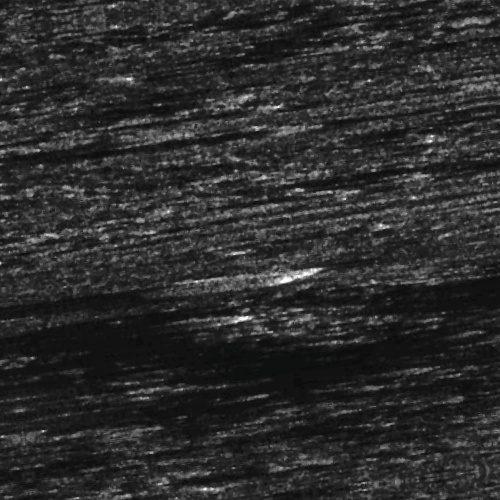object: (196, 268, 383, 285), (22, 493, 189, 500), (118, 119, 233, 128), (188, 91, 261, 100), (454, 363, 500, 374), (0, 39, 55, 48), (242, 105, 305, 112), (280, 129, 343, 136), (491, 180, 500, 193)
shadow: (0, 268, 289, 285), (244, 180, 500, 193), (240, 363, 495, 374), (0, 129, 312, 136), (0, 119, 176, 128), (101, 91, 225, 100), (151, 105, 273, 112), (0, 493, 105, 500)
